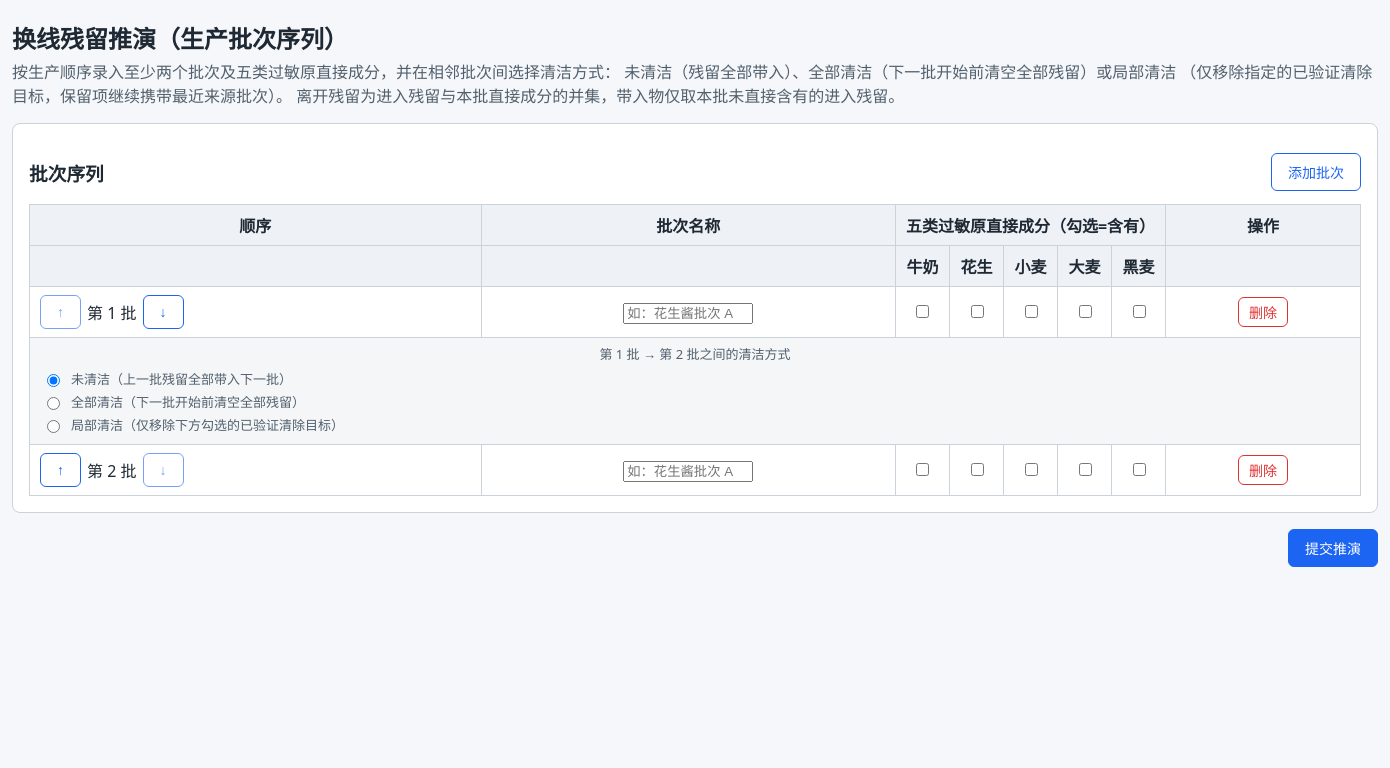
Scenario: 换线残留推演：提交与逐批结果 › 直接成分不误报：本批直接含有的目标项不出现在带入物，但刷新最近来源
Type "花生酱A" into the field with test id "co-batch-0-name". click: (688, 313)
box: [623, 303, 753, 324]
Click the checkbox with test id "co-batch-0-contains-peanut". click: (977, 312)
box: [970, 305, 984, 318]
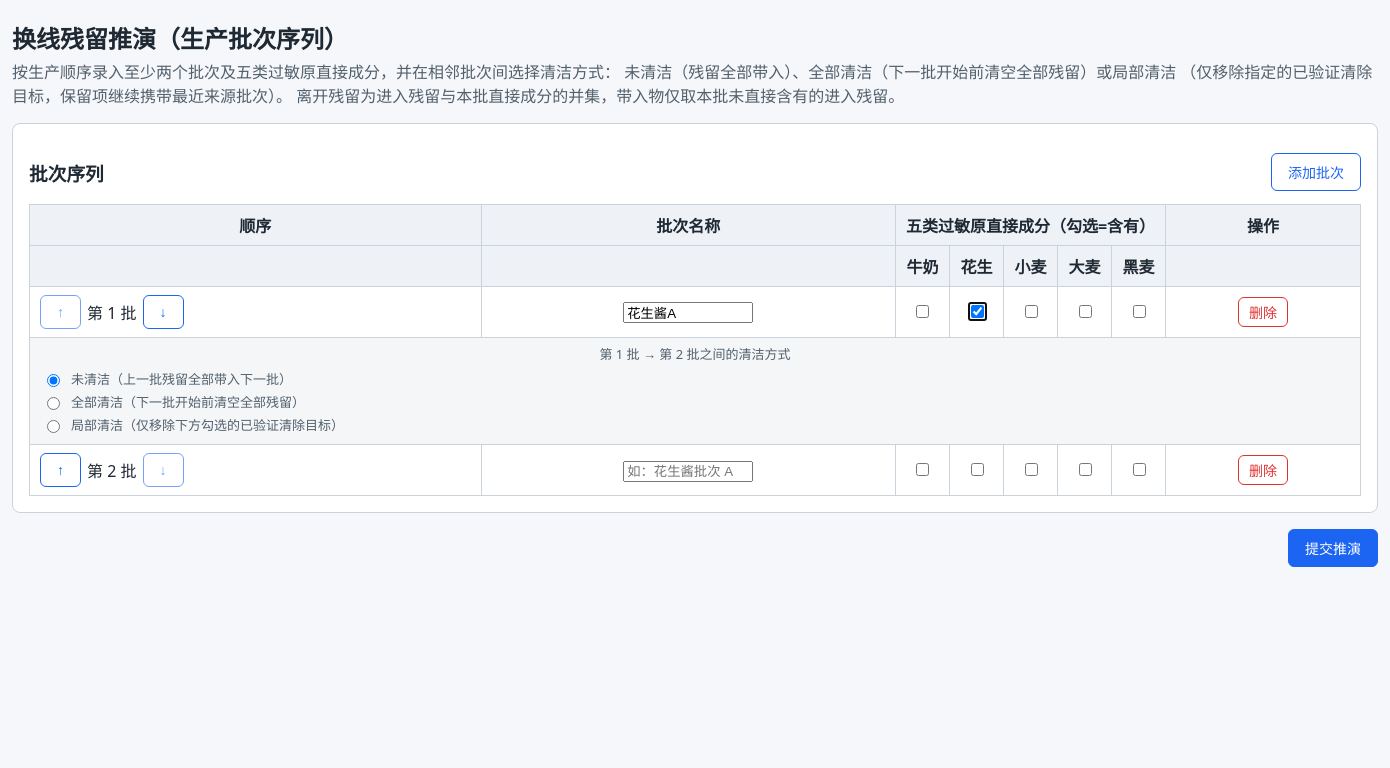
Type "花生酥B" into the field with test id "co-batch-1-name". click: (688, 471)
box: [623, 461, 753, 482]
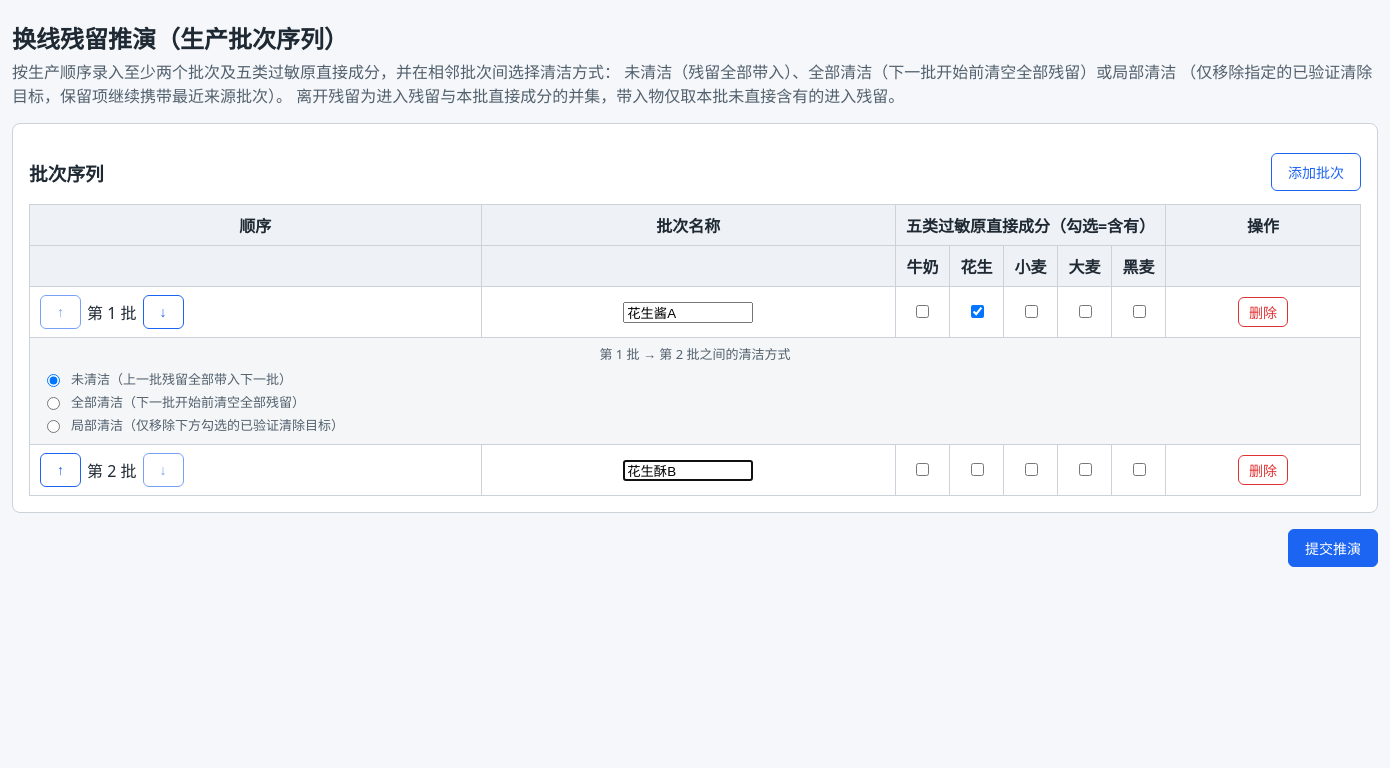
Click the checkbox with test id "co-batch-1-contains-peanut". click: (977, 470)
box: [970, 463, 984, 476]
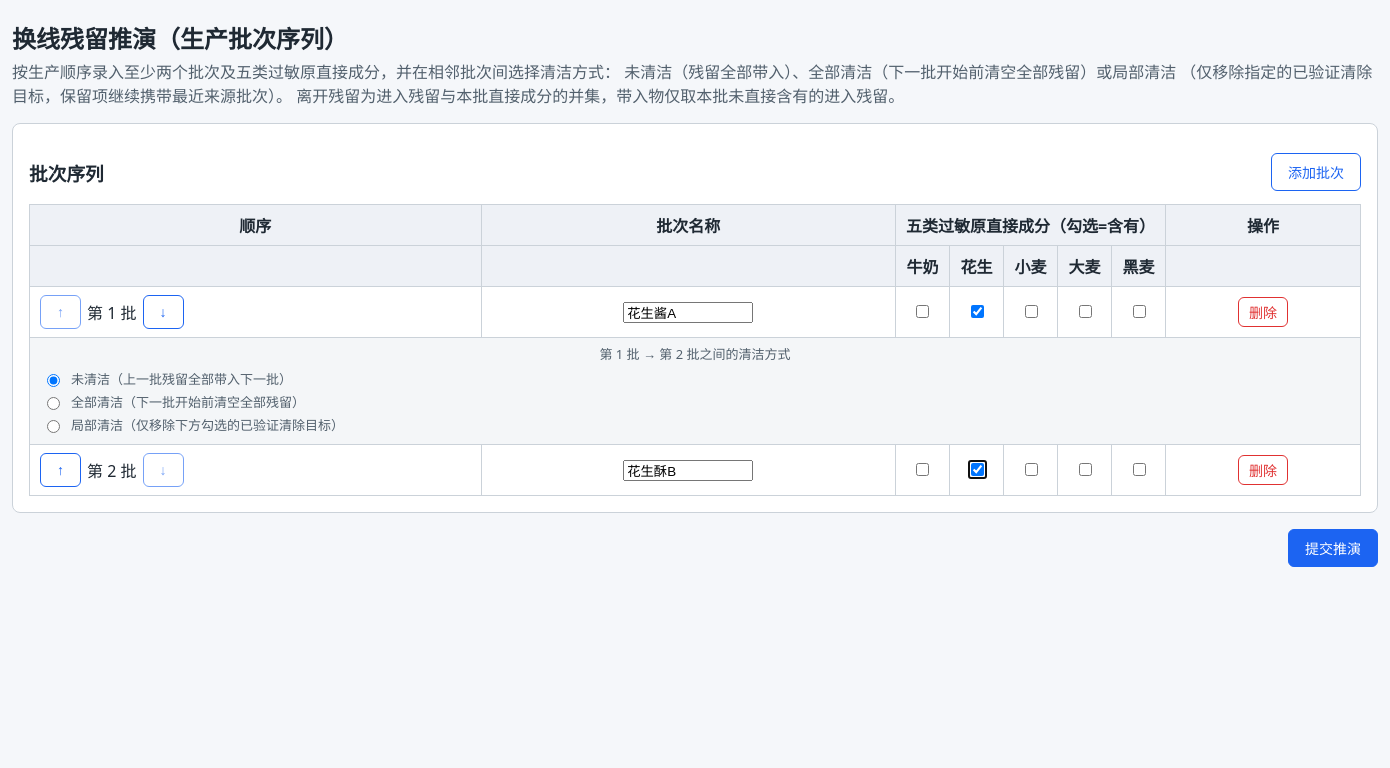
Click the button with test id "co-add-batch". click: (1316, 172)
box: [1271, 153, 1361, 191]
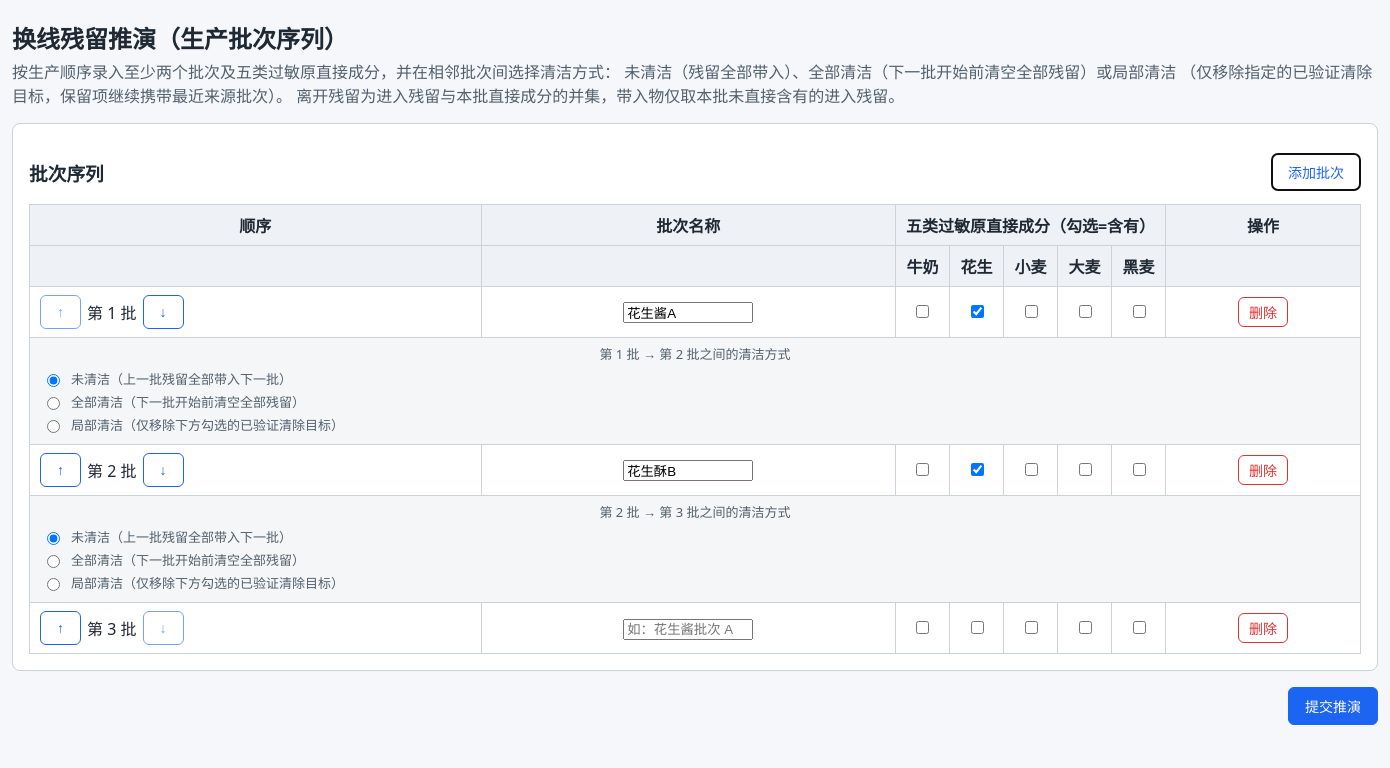
Type "燕麦C" into the field with test id "co-batch-2-name". click: (688, 629)
box: [623, 619, 753, 640]
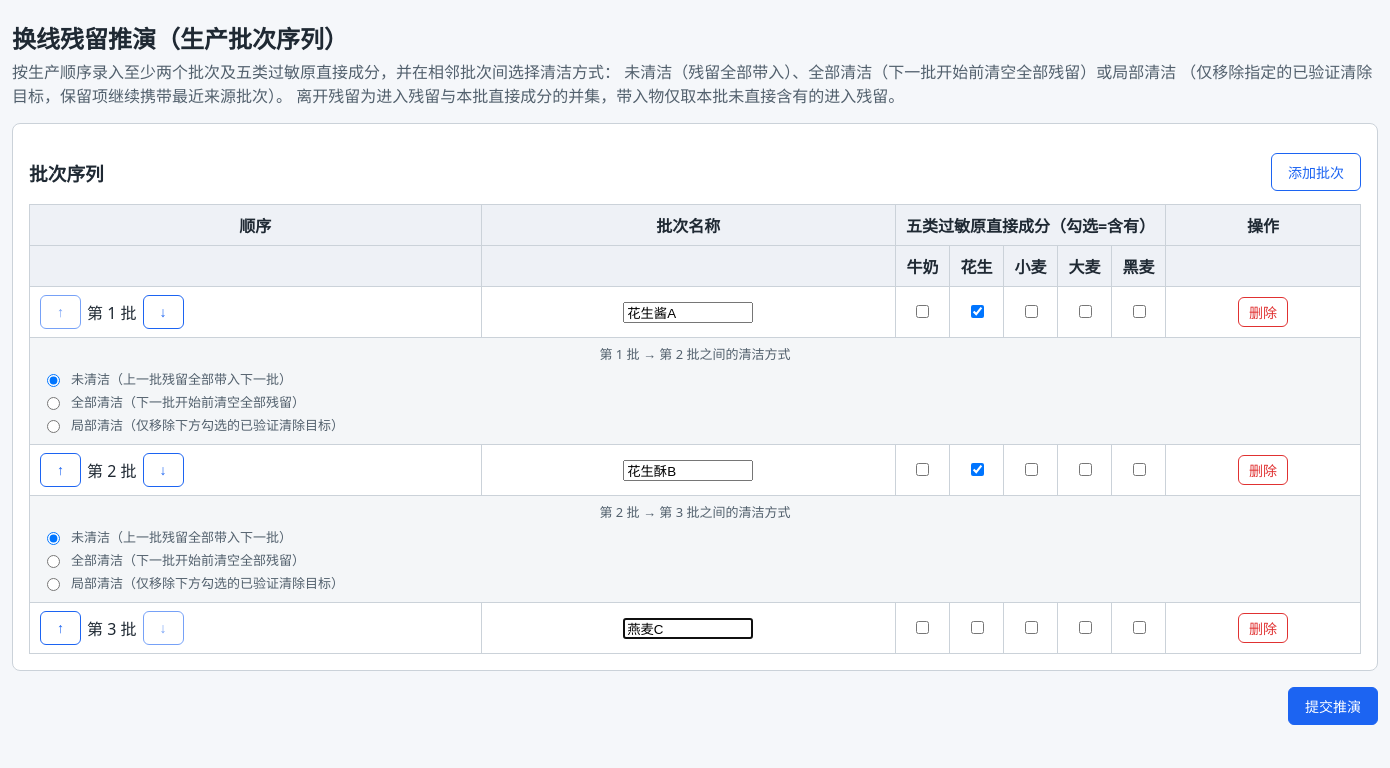
Click the button with test id "co-submit". click: (1333, 706)
box: [1288, 687, 1378, 725]
(page scrolled)
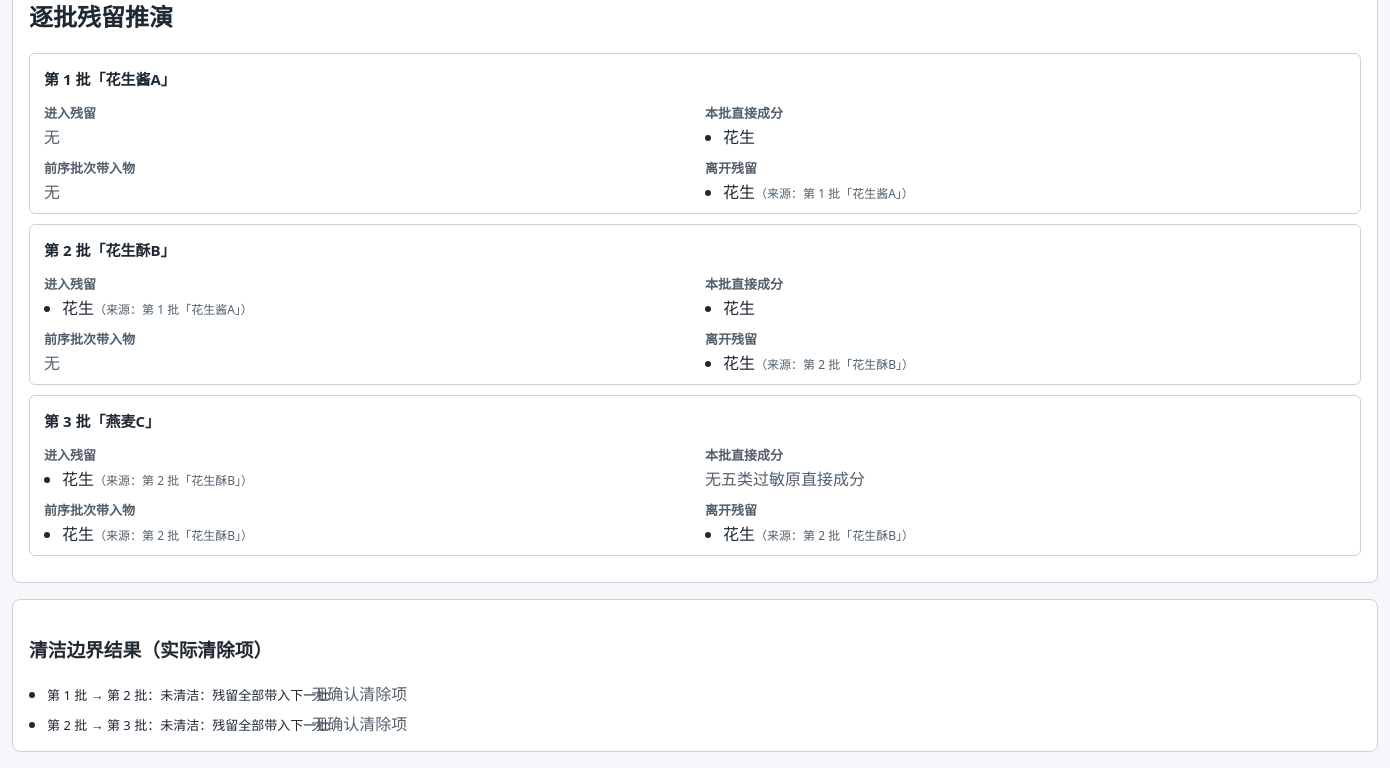
Expected: the list item with test id "co-batch-1-incoming-peanut" is shown, [62, 297, 253, 319]
Expected: the list with test id "co-batch-1-direct" reads "花生", [723, 297, 755, 319]
Expected: the list with test id "co-batch-1-carried" reads "无", [44, 352, 60, 374]
